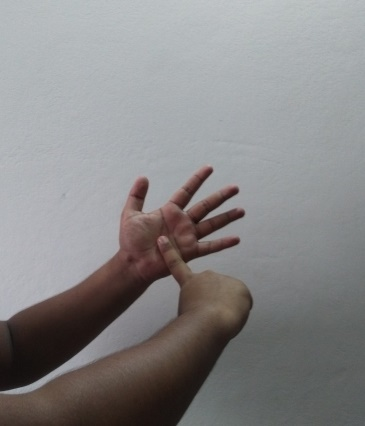oo: (119, 163, 252, 332)
